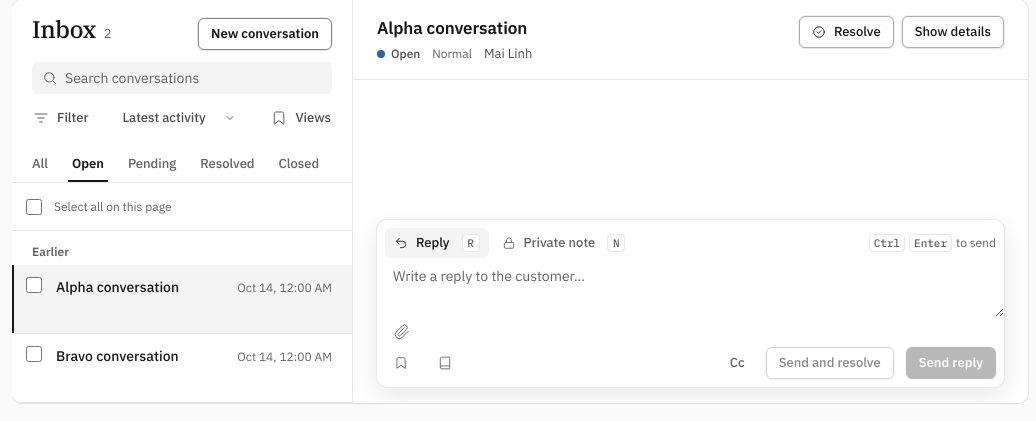
Scenario: opening a listed ticket renders its header and asks for its messages without any detail request
Click the button "Bravo conversation Oct 14, 12:00 AM": (117, 356) [12, 334, 352, 403]
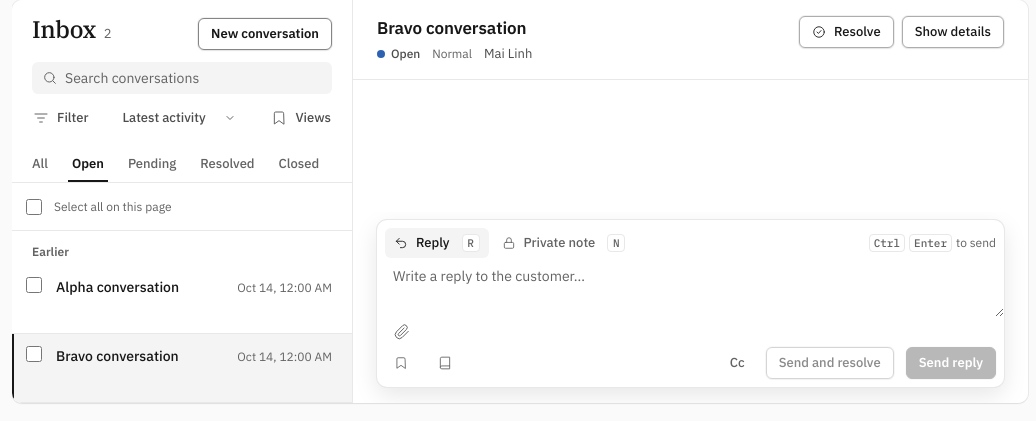
Result: the heading "Bravo conversation" is shown at [377, 17, 526, 39]
